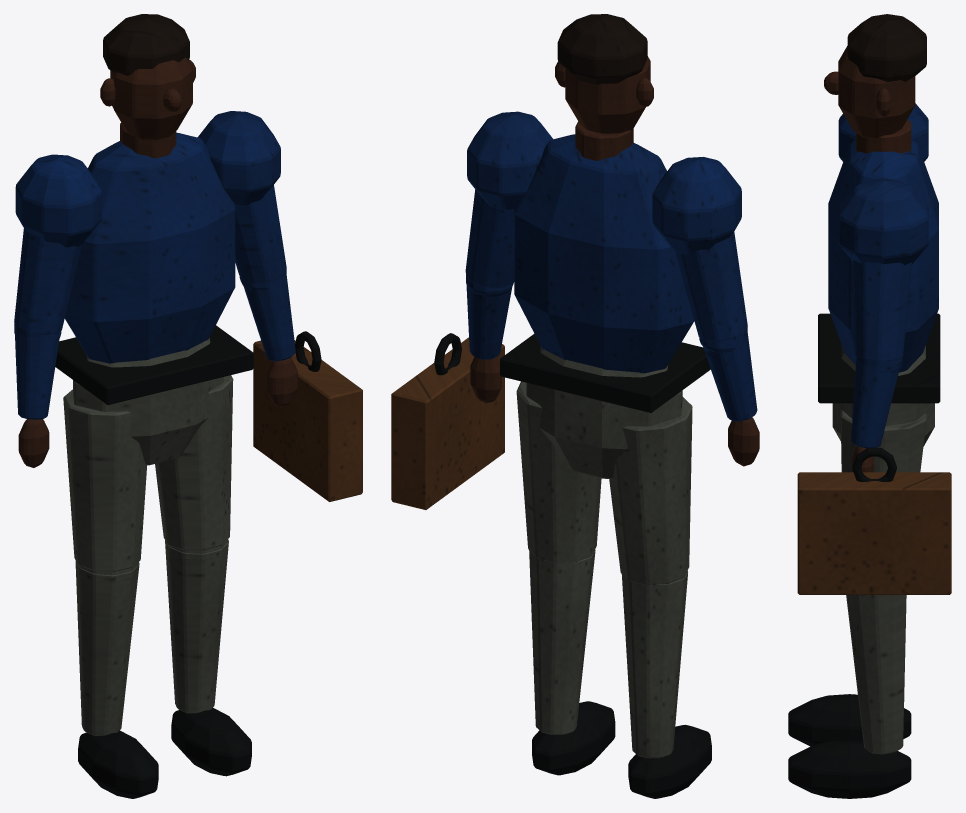
Rendered from PROP-2A02835D05DC_lod1.glb.
The picture shows the model from 3 angles, left to right: view 1: azimuth 30°, elevation 25°; view 2: azimuth 150°, elevation 25°; view 3: azimuth 270°, elevation 25°; orthographic projection. The views are drawn at different scales.
Parts seen in each view (by area): view 1: torso.018, thigh.017, calf.017, shoulder.018, briefcase.002, upper_arm.018, shoe.017, belt.017, pelvis.017, forearm.018, head.017, hair_cap.017 (+4 smaller); view 2: torso.018, thigh.017, calf.017, briefcase.002, shoulder.018, upper_arm.018, pelvis.017, shoe.017, belt.017, forearm.018, hair_cap.017, head.017 (+5 smaller); view 3: briefcase.002, torso.018, shoe.017, shoulder.018, calf.017, upper_arm.018, belt.017, hair_cap.017, head.017, forearm.018, thigh.017, pelvis.017 (+4 smaller).
Boxes of the visible parts, x1,y1,x2,y2 form: torso.018: (64,132,235,363); thigh.017: (63,375,233,571); calf.017: (75,540,228,735); shoulder.018: (15,111,280,247); briefcase.002: (253,340,362,501); upper_arm.018: (14,185,286,334); shoe.017: (78,708,251,798); belt.017: (55,325,253,404); pelvis.017: (73,338,223,465); forearm.018: (15,273,295,419); head.017: (110,57,192,139); hair_cap.017: (103,14,189,75); torso.018: (514,134,694,373); thigh.017: (516,381,692,585); calf.017: (529,550,687,758); briefcase.002: (391,337,504,509); shoulder.018: (467,111,741,254); upper_arm.018: (465,189,747,341); pelvis.017: (526,346,682,478); shoe.017: (532,701,711,798); belt.017: (500,333,710,412); forearm.018: (466,285,757,421); hair_cap.017: (557,14,647,84); head.017: (565,56,650,133); briefcase.002: (797,472,951,594); torso.018: (828,139,938,372); shoe.017: (788,694,911,798); shoulder.018: (838,103,928,265); calf.017: (846,595,906,754); upper_arm.018: (853,260,911,360); belt.017: (818,313,940,403); hair_cap.017: (847,14,926,82); head.017: (838,46,915,138); forearm.018: (851,359,899,448); thigh.017: (840,410,926,472); pelvis.017: (832,345,934,446).
Bounding box in the file's own units: 0.8013 × 1.84 × 0.3607.
Materials: 6 (6 with a texture image).
